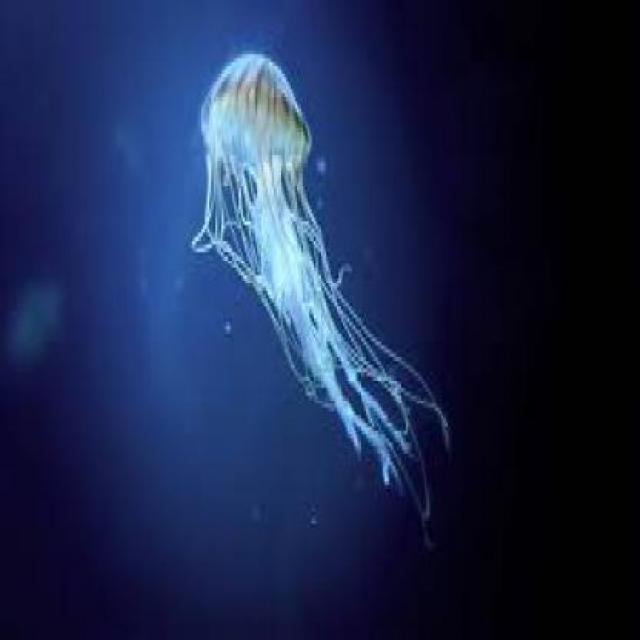Jellyfish: (183, 47, 454, 547)
